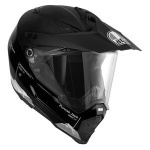Helmet: (7, 4, 144, 145)
